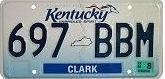placa de veiculo: (4, 1, 164, 77)
